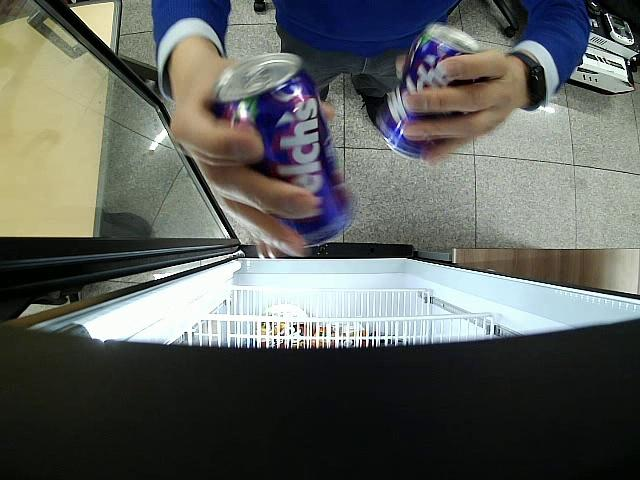00_hand: (171, 55, 333, 257), (395, 53, 525, 168)
14_welchsGrape: (211, 52, 357, 249), (378, 25, 478, 161)
